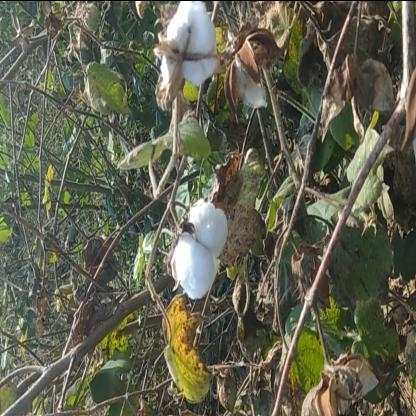cotton_ready: (168, 178, 233, 310), (161, 0, 220, 118)
